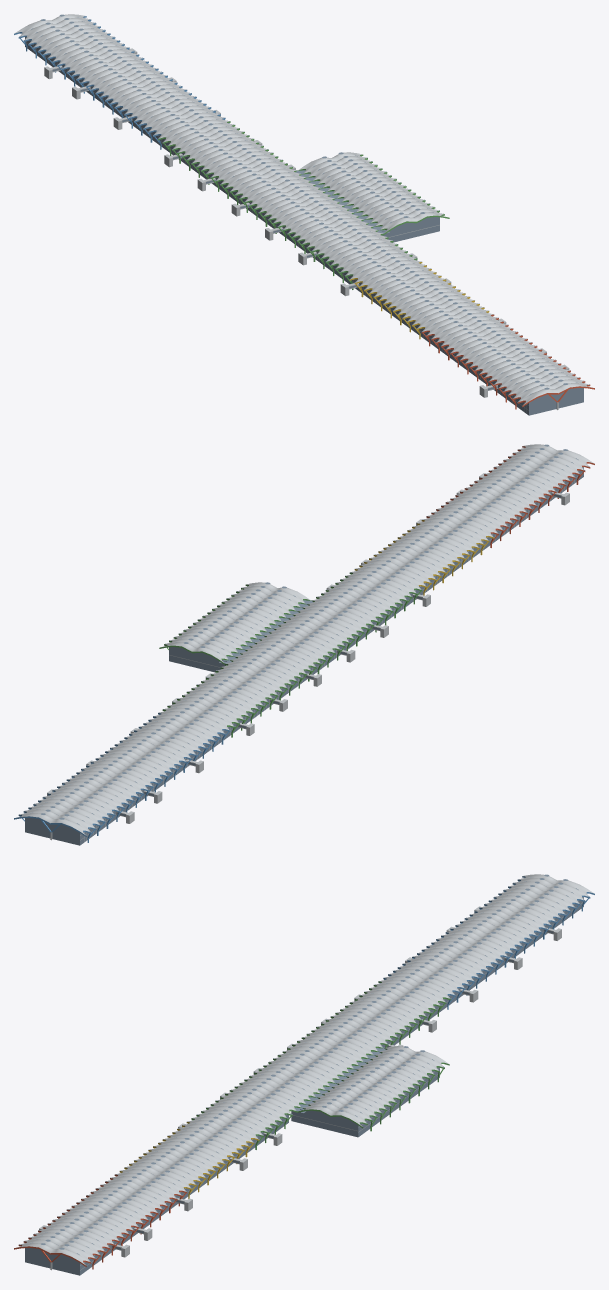
Rendered from madrid-barajas-terminal-4s.detail.glb.
The picture shows the model from 3 angles, top to bottom: view 1: azimuth 30°, elevation 25°; view 2: azimuth 150°, elevation 25°; view 3: azimuth 330°, elevation 25°; orthographic projection.
Visible parts, largest first — view 1: Madrid-Barajas Terminal 4S; view 2: Madrid-Barajas Terminal 4S; view 3: Madrid-Barajas Terminal 4S.
Boxes of the visible parts, bbox=[...] form: Madrid-Barajas Terminal 4S: bbox=[14, 14, 594, 415]; Madrid-Barajas Terminal 4S: bbox=[14, 444, 594, 845]; Madrid-Barajas Terminal 4S: bbox=[14, 874, 594, 1275].
Size of the model in its own units: 156 by 23.12 by 952.
